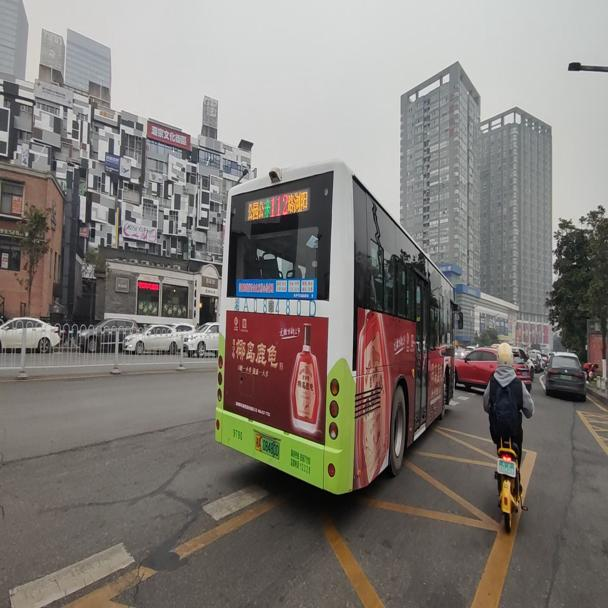bus: (213, 162, 470, 497)
screen: (269, 193, 287, 217)
